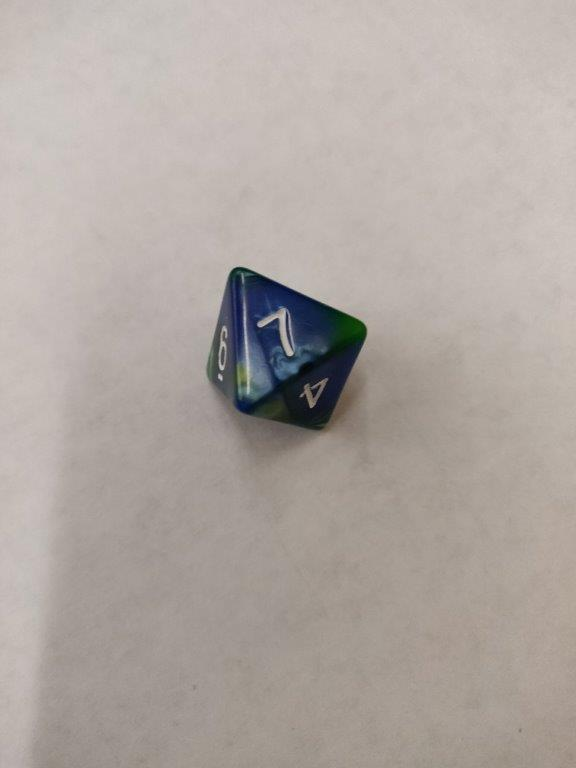d8-7: (205, 263, 370, 432)
